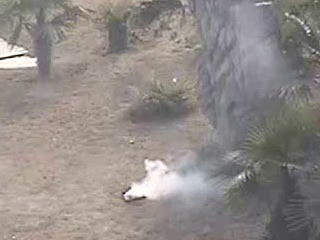smoke: (120, 151, 227, 205)
